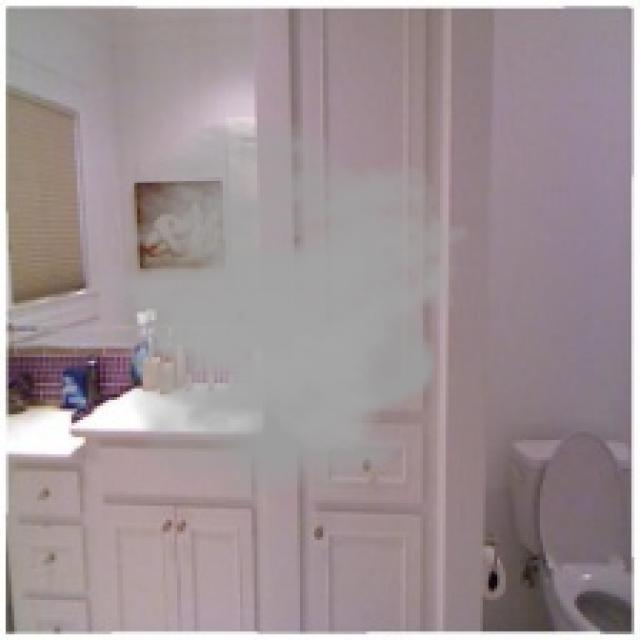Smoke: (74, 117, 472, 500)
